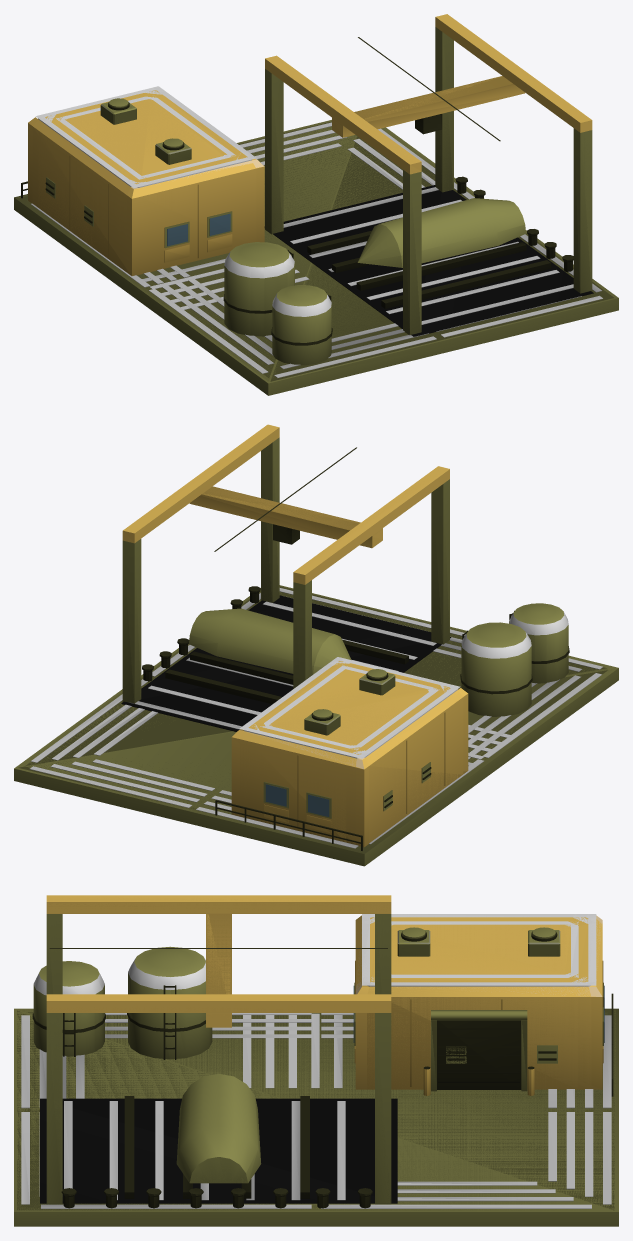
Rendered from meridian_shipyard.glb.
3 views of the same model, one above another, from view 1: azimuth 30°, elevation 25°; view 2: azimuth 150°, elevation 25°; view 3: azimuth 270°, elevation 25° (orthographic). The views are drawn at different scales.
Parts seen in each view (by area): view 1: body (×3); view 2: body (×3); view 3: body (×3).
Boxes of the visible parts, x1,y1,x2,y2 form: body (×3): (14, 14, 618, 395); body (×3): (14, 424, 618, 866); body (×3): (14, 895, 618, 1226).
Size of the model in its own units: 14.8 by 7.4 by 18.6.
